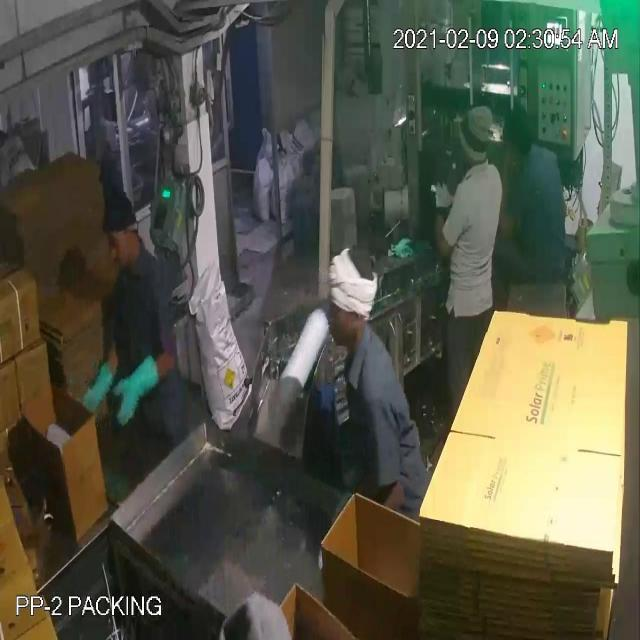Gloves: (34, 59, 444, 397)
